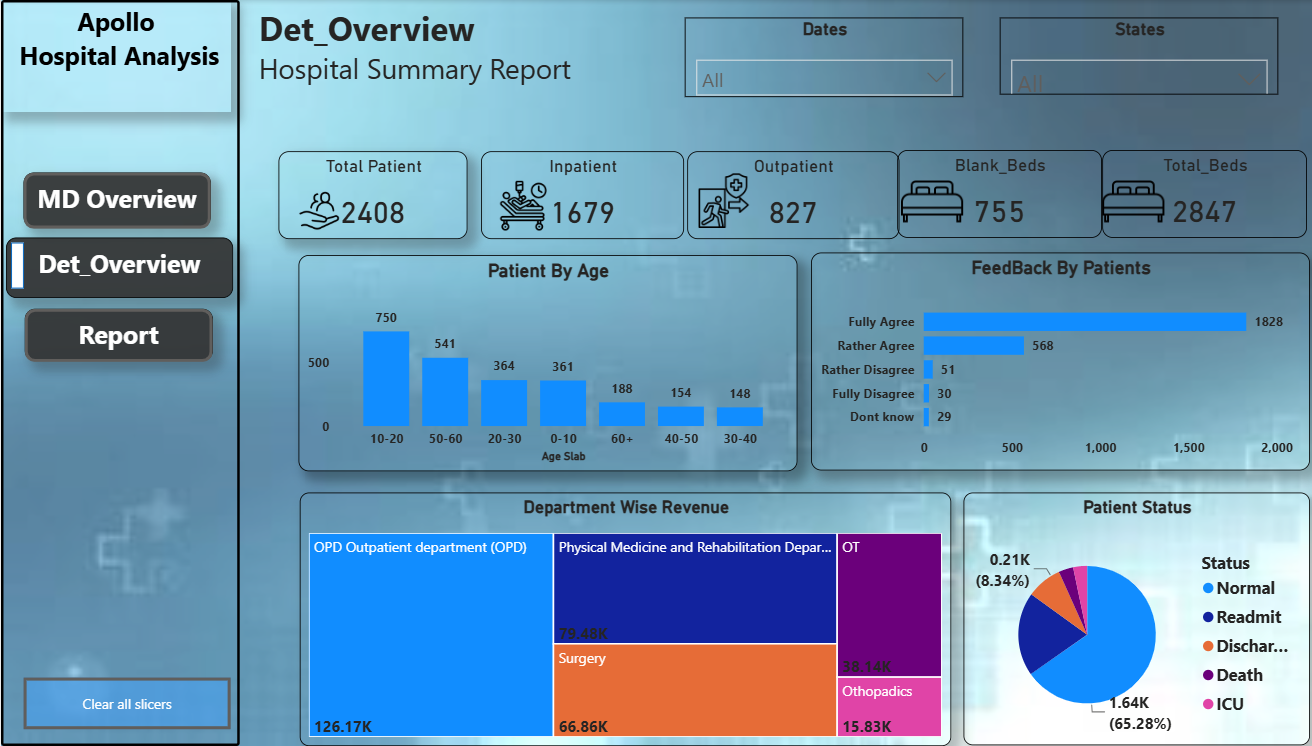

Layout of this report page (visuals, bound fields, positions):
{"tool":"powerbi","page":{"name":"Det_Overview","canvas":[1280,720],"ordinal":1},"visuals":[{"type":"card","title":"Total Patient","fields":{"Values":["All Measure.Total patient"]},"box":[279.9,144.8,183.4,84.5],"z":0},{"type":"textbox","box":[244,0,379.3,108.6],"z":1000},{"type":"card","title":"Inpatient","fields":{"Values":["All Measure.Inpatient"]},"box":[463.3,146.1,196.2,85.1],"z":2000},{"type":"card","title":"Outpatient","fields":{"Values":["All Measure.Outpatient"]},"box":[662.3,146.1,204.5,85.1],"z":3000},{"type":"card","title":"Blank_Beds","fields":{"Values":["All Measure.Bed_id"]},"box":[864.9,145,197.6,85.1],"z":4000},{"type":"card","title":"Total_Beds","fields":{"Values":["Total_Beds.Total_Beds"]},"box":[1062.5,145,197.6,85.1],"z":5000},{"type":"image","box":[287.4,178.8,40.1,50.1],"z":6000},{"type":"textbox","box":[0,0,221.8,108.1],"z":7000},{"type":"textbox","box":[22.3,167,180.9,52.9],"z":8000},{"type":"textbox","box":[5,228.9,218.9,58.5],"z":9000},{"type":"pieChart","title":"Patient Status","fields":{"Category":["Detail data dataset.Status"],"Y":["CountNonNull(Detail data dataset.ID)"]},"box":[929.1,475.8,334,244.2],"z":10000},{"type":"barChart","title":"FeedBack By Patients","fields":{"Category":["Detail data dataset.Feedback"],"Y":["CountNonNull(Detail data dataset.ID)"]},"box":[782,244,481.3,210.5],"z":11000},{"type":"columnChart","title":"Patient By Age","fields":{"Category":["Detail data dataset.Age Slab"],"Y":["CountNonNull(Detail data dataset.ID)"]},"box":[287.4,245.6,481.3,208.9],"z":12000},{"type":"treemap","title":"Department Wise Revenue","fields":{"Group":["Department.Department_Name"],"Values":["Total_Beds.Total_Treatment"]},"box":[288,475.8,628.9,244.9],"z":13000},{"type":"slicer","title":"Dates","fields":{"Values":["Detail data dataset.Date.Variation.Date Hierarchy.Month"]},"box":[660.1,16.7,269,76.9],"z":14000},{"type":"slicer","title":"States","fields":{"Values":["Detail data dataset.State"]},"box":[964.2,16.7,269,74],"z":15000},{"type":"textbox","box":[22.9,298.6,181.4,50],"z":16000},{"type":"actionButton","box":[21.7,653.4,200,50],"z":17000},{"type":"shape","box":[9.7,233.7,12.5,44.5],"z":18000},{"type":"image","box":[478.6,167,50.1,64],"z":19000},{"type":"image","box":[659.5,167,75.1,54.3],"z":20000},{"type":"image","box":[868.2,155.8,59.8,77.9],"z":21000},{"type":"image","box":[1063,155.8,59.8,77.9],"z":22000},{"type":"actionButton","box":[22.3,167,180.9,54.3],"z":23000},{"type":"textbox","box":[0,0,230.2,720],"z":23001},{"type":"actionButton","box":[22.9,298.6,181.4,51.4],"z":23002}]}

Visuals, with their boxes in screenshot pixels (x1, y1, x2, y2), scaled from the page's 1280x720 canvas onto the 1312x746 screenshot:
"Total Patient" card: {"x1": 287, "y1": 150, "x2": 475, "y2": 238}
textbox: {"x1": 250, "y1": 0, "x2": 639, "y2": 113}
"Inpatient" card: {"x1": 475, "y1": 151, "x2": 676, "y2": 240}
"Outpatient" card: {"x1": 679, "y1": 151, "x2": 888, "y2": 240}
"Blank_Beds" card: {"x1": 887, "y1": 150, "x2": 1089, "y2": 238}
"Total_Beds" card: {"x1": 1089, "y1": 150, "x2": 1292, "y2": 238}
image: {"x1": 295, "y1": 185, "x2": 336, "y2": 237}
textbox: {"x1": 0, "y1": 0, "x2": 227, "y2": 112}
textbox: {"x1": 23, "y1": 173, "x2": 208, "y2": 228}
textbox: {"x1": 5, "y1": 237, "x2": 229, "y2": 298}
"Patient Status" pieChart: {"x1": 952, "y1": 493, "x2": 1295, "y2": 745}
"FeedBack By Patients" barChart: {"x1": 802, "y1": 253, "x2": 1295, "y2": 471}
"Patient By Age" columnChart: {"x1": 295, "y1": 254, "x2": 788, "y2": 471}
"Department Wise Revenue" treemap: {"x1": 295, "y1": 493, "x2": 940, "y2": 745}
"Dates" slicer: {"x1": 677, "y1": 17, "x2": 952, "y2": 97}
"States" slicer: {"x1": 988, "y1": 17, "x2": 1264, "y2": 94}
textbox: {"x1": 23, "y1": 309, "x2": 209, "y2": 361}
actionButton: {"x1": 22, "y1": 677, "x2": 227, "y2": 729}
shape: {"x1": 10, "y1": 242, "x2": 23, "y2": 288}
image: {"x1": 491, "y1": 173, "x2": 542, "y2": 239}
image: {"x1": 676, "y1": 173, "x2": 753, "y2": 229}
image: {"x1": 890, "y1": 161, "x2": 951, "y2": 242}
image: {"x1": 1090, "y1": 161, "x2": 1151, "y2": 242}
actionButton: {"x1": 23, "y1": 173, "x2": 208, "y2": 229}
textbox: {"x1": 0, "y1": 0, "x2": 236, "y2": 745}
actionButton: {"x1": 23, "y1": 309, "x2": 209, "y2": 363}
